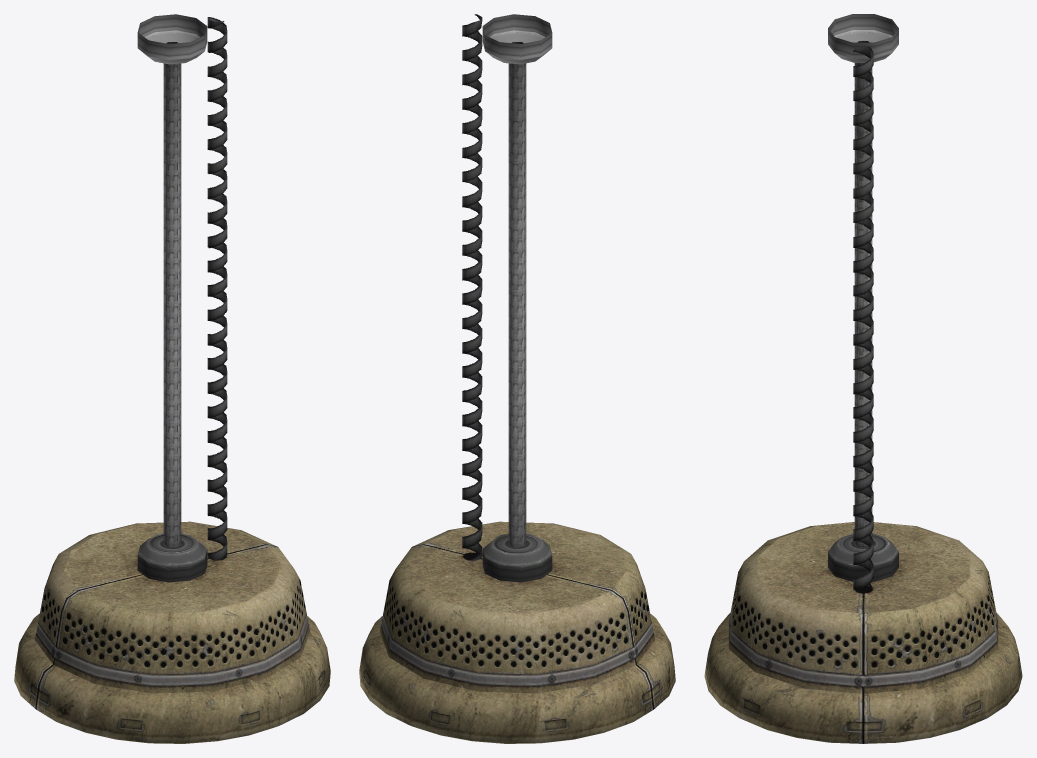
Rendered from ceiling_spot_hanging.dae.
The picture shows the model from 3 angles, left to right: view 1: azimuth 30°, elevation 25°; view 2: azimuth 150°, elevation 25°; view 3: azimuth 270°, elevation 25°; orthographic projection.
Visible parts, largest first — view 1: Mesh__2_; view 2: Mesh__2_; view 3: Mesh__2_.
Boxes of the visible parts, left/top/right/bottom form: Mesh__2_: left=14, top=14, right=330, bottom=743; Mesh__2_: left=359, top=14, right=675, bottom=743; Mesh__2_: left=704, top=14, right=1022, bottom=743.
Size of the model in its own units: 1.11 by 2.53 by 1.12.
